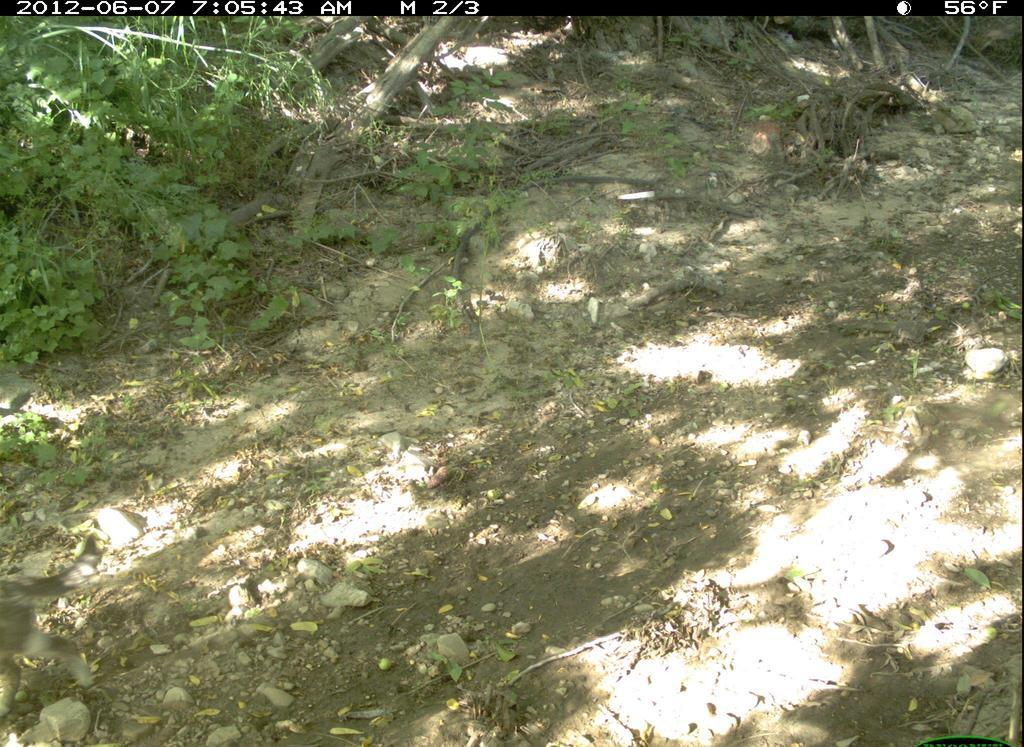cat: (1, 523, 134, 727)
